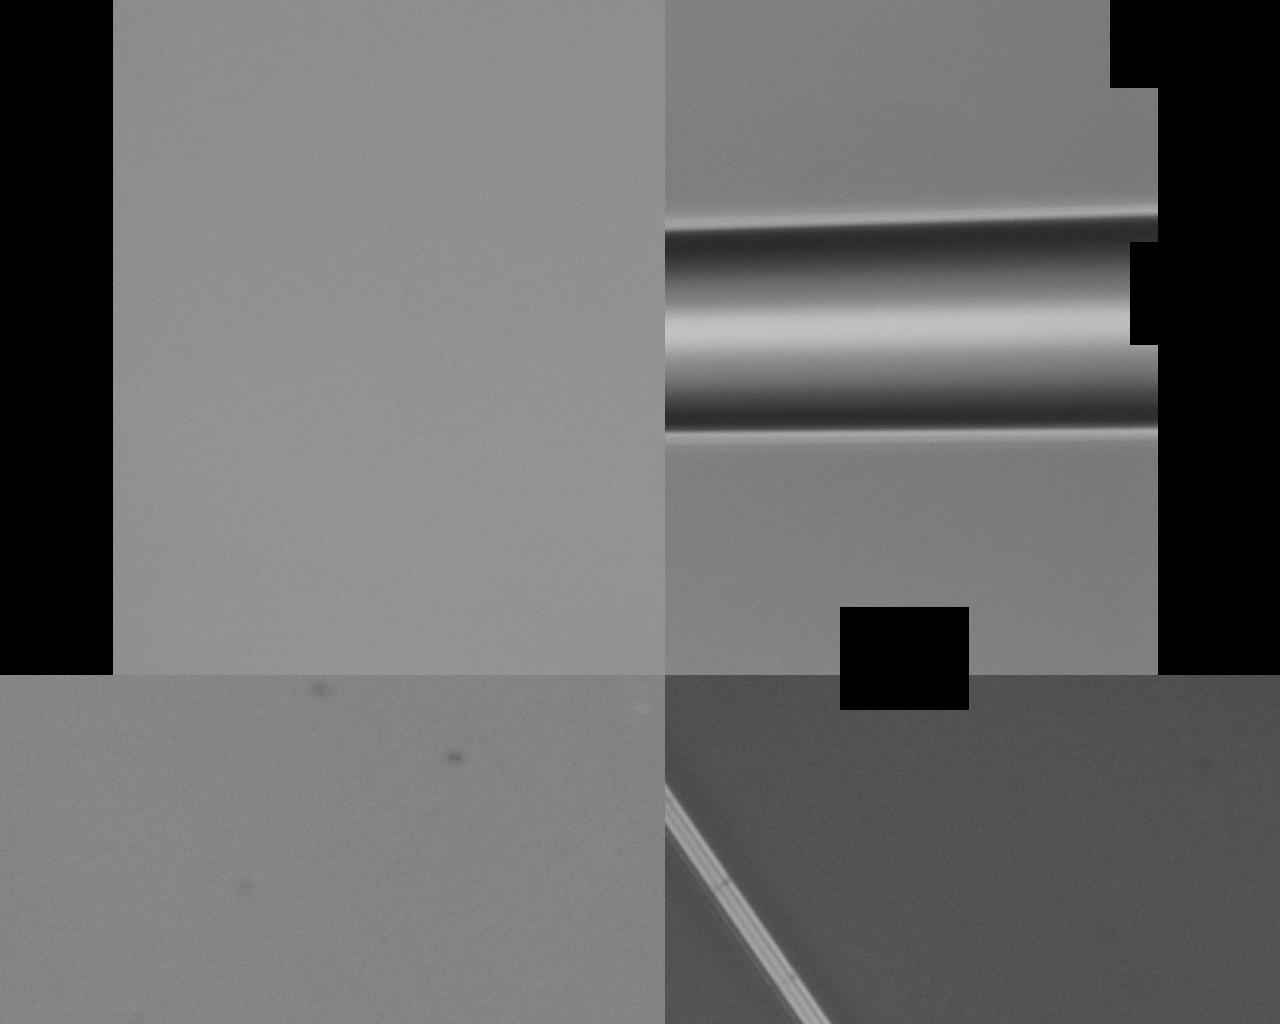fiber: (758, 0, 1217, 532), (601, 682, 1280, 1008), (254, 532, 527, 1024), (0, 292, 601, 395)
